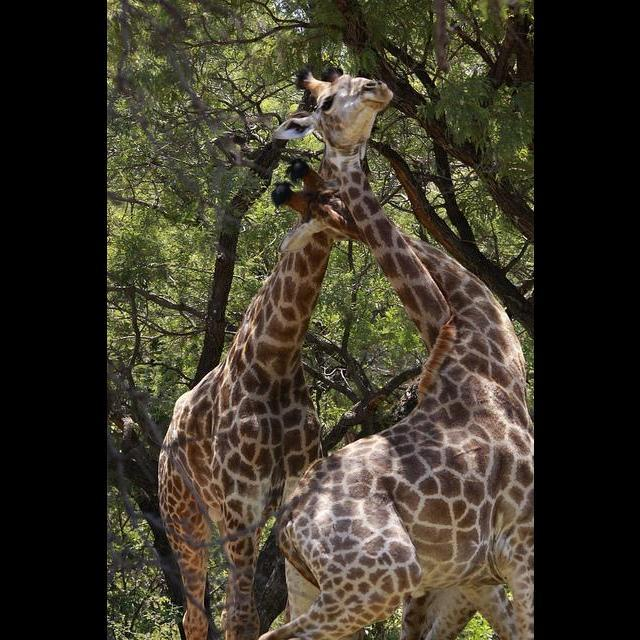giraffe: (243, 130, 532, 628), (156, 72, 390, 640)
